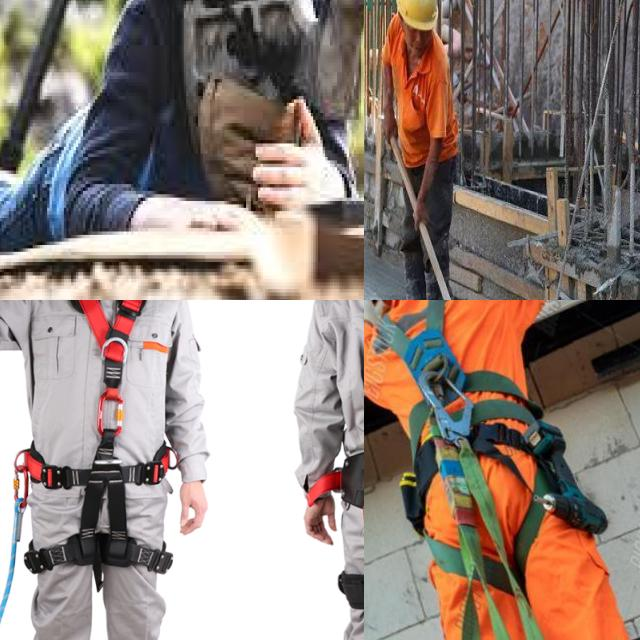Harness: (21, 300, 181, 565), (373, 300, 543, 500)
boots: (383, 260, 430, 300)
face_nomask: (404, 30, 430, 59)
hand_noglove: (407, 196, 437, 232), (380, 108, 401, 142)
head_helmet: (393, 0, 442, 29)
person: (383, 0, 450, 300)
